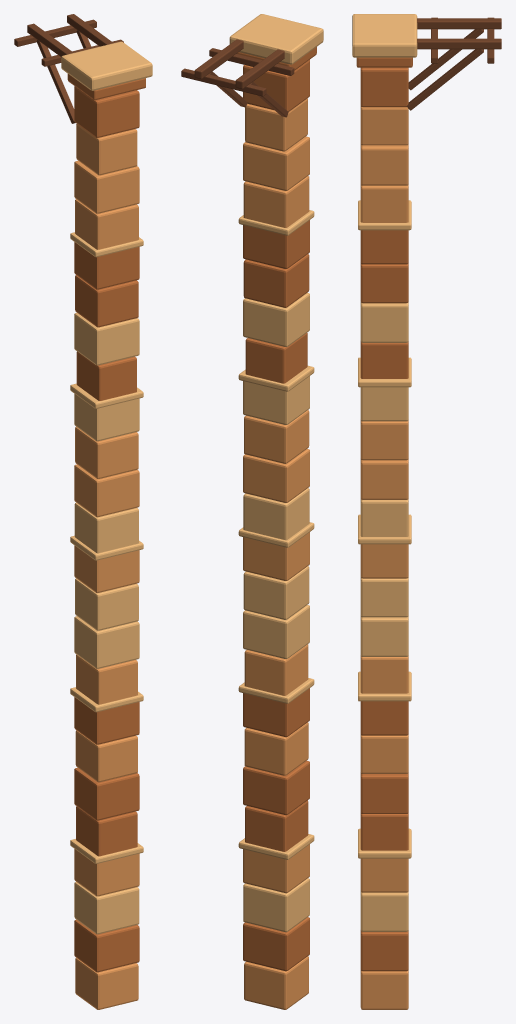
The model's file is SD_G11_PlatformPier.fbx.
3 views of the same model, side by side, from view 1: azimuth 30°, elevation 25°; view 2: azimuth 150°, elevation 25°; view 3: azimuth 270°, elevation 25° (orthographic). The views are drawn at different scales.
Parts seen in each view (by area): view 1: SD_G11_PlatformPier; view 2: SD_G11_PlatformPier; view 3: SD_G11_PlatformPier.
Boxes of the visible parts, x1,y1,x2,y2 form: SD_G11_PlatformPier: (14,14,152,1009); SD_G11_PlatformPier: (181,14,323,1009); SD_G11_PlatformPier: (352,14,501,1009).
Size of the model in its own units: 2.2 by 24.74 by 3.45.
